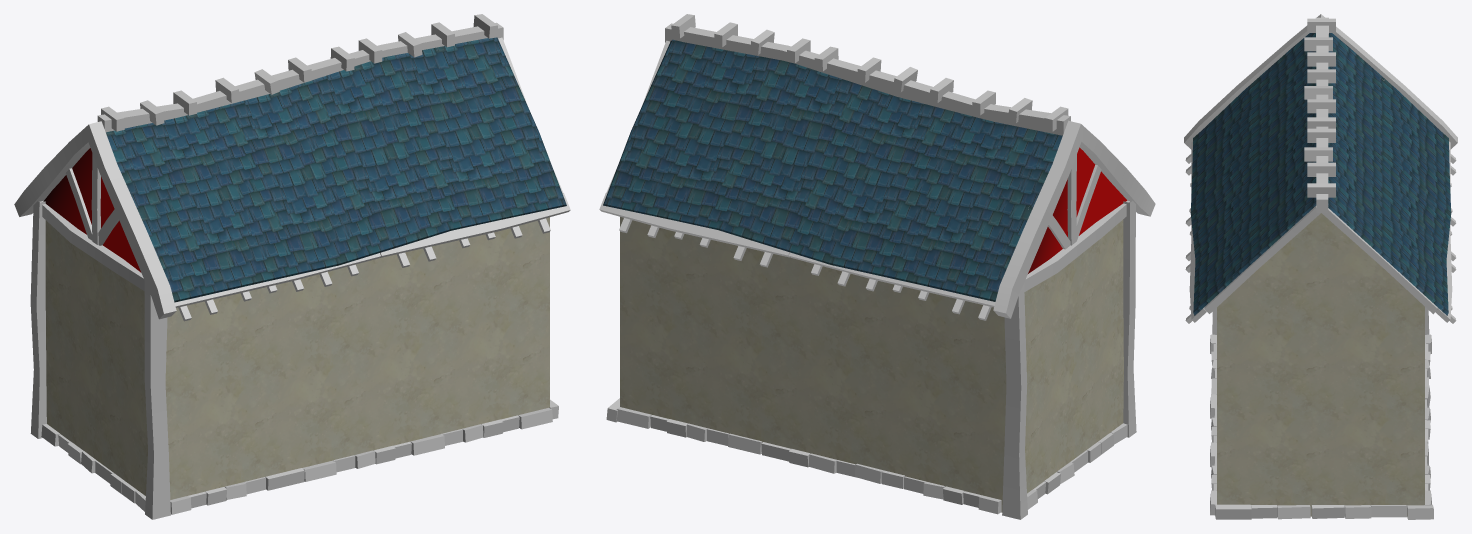
File: A_Bridge_B.fbx
3 renders of one model, left to right at view 1: azimuth 30°, elevation 25°; view 2: azimuth 150°, elevation 25°; view 3: azimuth 270°, elevation 25°, orthographic. The views are drawn at different scales.
Visible parts, largest first — view 1: A_Bridge_B, A_Bridge_B_Tiles, A_Bridge_B_KitPart; view 2: A_Bridge_B, A_Bridge_B_Tiles, A_Bridge_B_KitPart; view 3: A_Bridge_B, A_Bridge_B_Tiles, A_Bridge_B_KitPart.
Part boxes in pixels (<box>): A_Bridge_B: <box>45,217,549,499</box>; A_Bridge_B_Tiles: <box>106,37,566,302</box>; A_Bridge_B_KitPart: <box>14,14,570,519</box>; A_Bridge_B: <box>620,217,1123,512</box>; A_Bridge_B_Tiles: <box>603,39,1062,301</box>; A_Bridge_B_KitPart: <box>599,14,1155,519</box>; A_Bridge_B: <box>1217,213,1424,516</box>; A_Bridge_B_Tiles: <box>1190,33,1451,315</box>; A_Bridge_B_KitPart: <box>1184,14,1457,519</box>.
Size of the model in its own units: 844 by 705 by 526.
